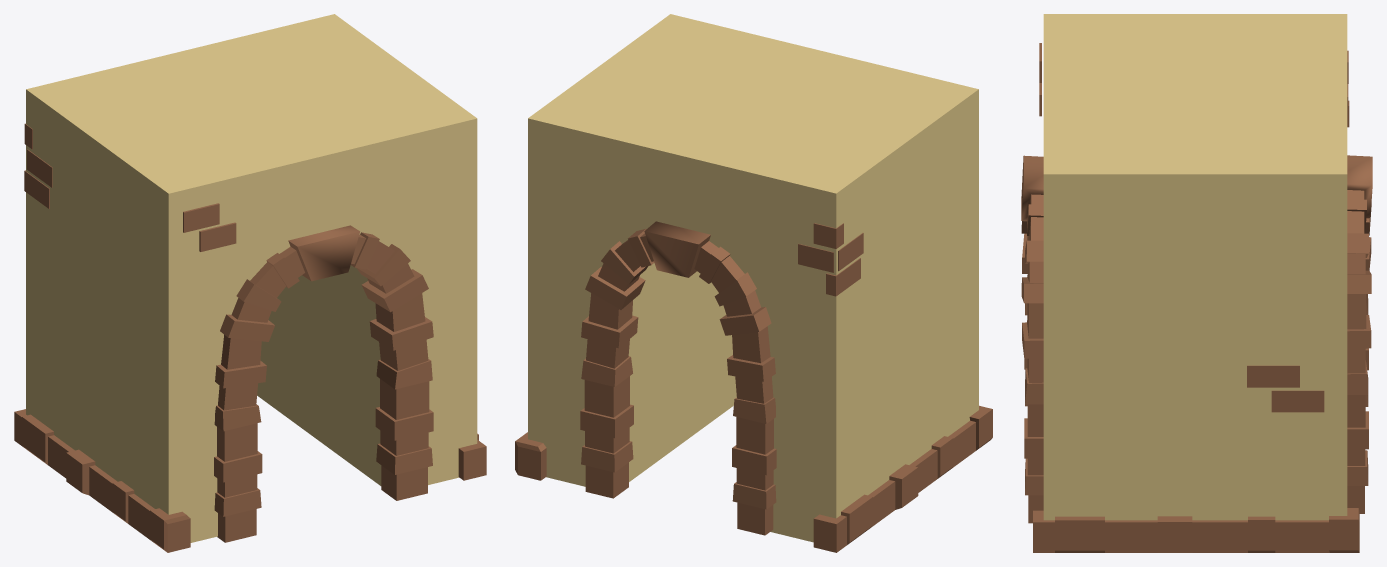
Rendered from bow2.fbx.
3 views of the same model, side by side, from view 1: azimuth 30°, elevation 25°; view 2: azimuth 150°, elevation 25°; view 3: azimuth 270°, elevation 25° (orthographic). The views are drawn at different scales.
Visible parts, largest first — view 1: Cube.327; view 2: Cube.327; view 3: Cube.327.
Boxes of the visible parts, <box> form: Cube.327: <box>14,14,486,552</box>; Cube.327: <box>515,14,992,552</box>; Cube.327: <box>1021,14,1372,552</box>.
Bounding box in the file's own units: 21.67 × 22.17 × 18.66.
